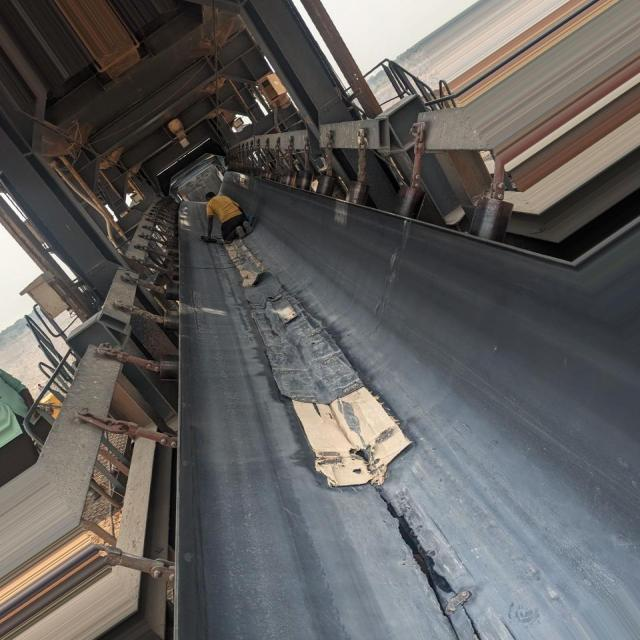Human: (204, 194, 253, 243)
Roller: (263, 166, 516, 242), (160, 220, 179, 380)
Tear: (398, 515, 449, 592)
patch work: (242, 271, 412, 486)
